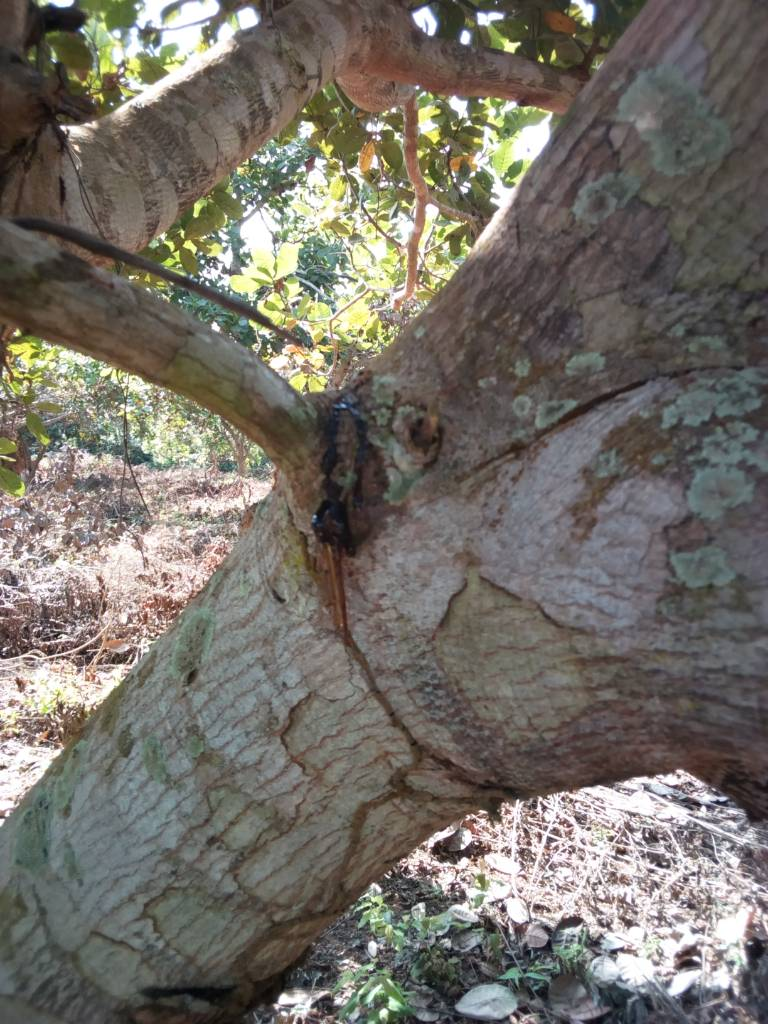Gommose: (305, 391, 371, 552)
